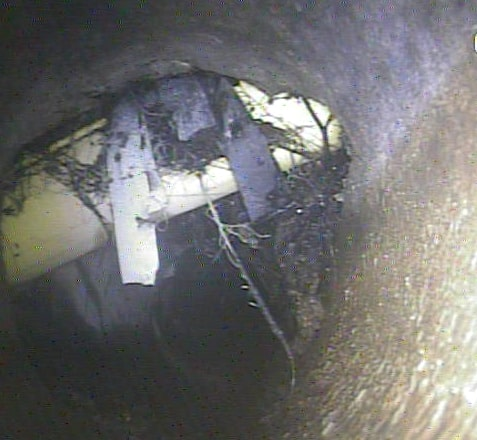cb: (2, 66, 338, 292)
